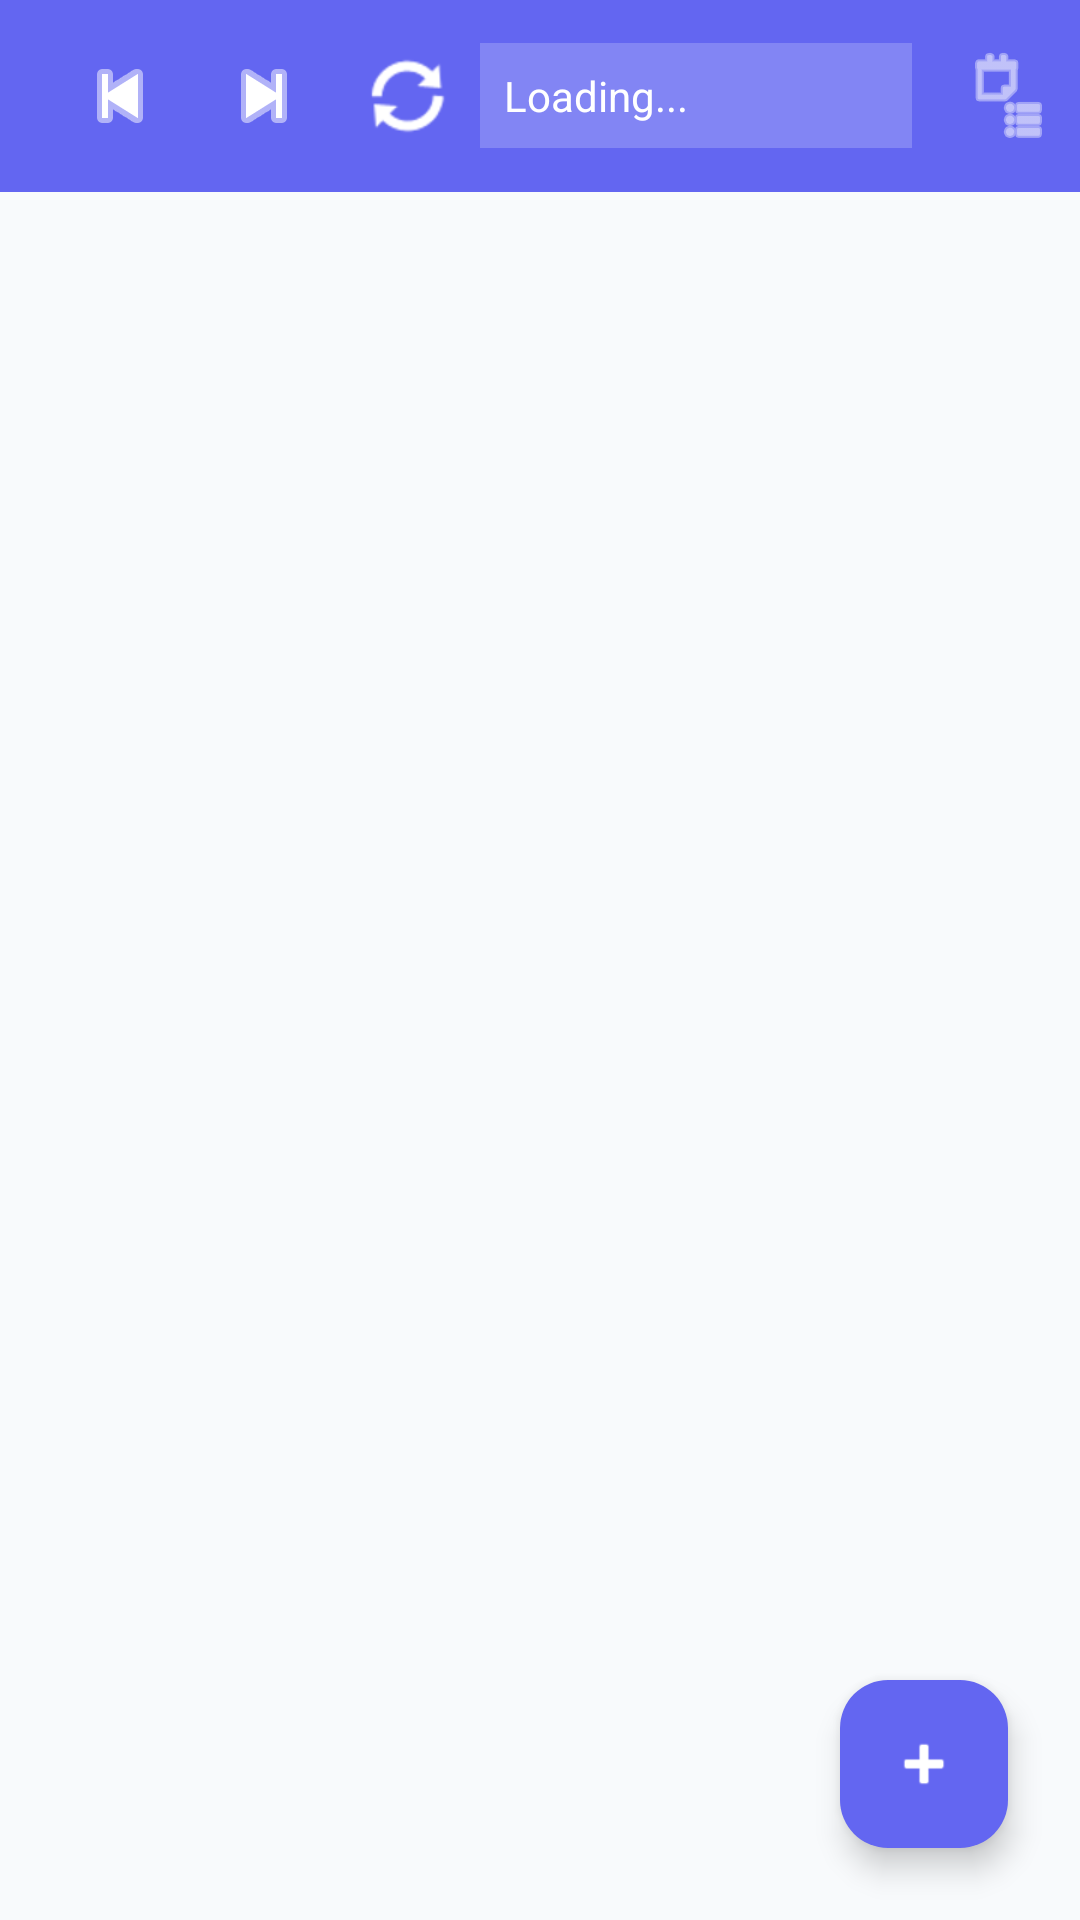

Named icons in this screenshot (1080x1920) and their bounding boxes, (x1, y1, x2, y2):
Back: (97, 69, 143, 123)
Forward: (241, 69, 287, 123)
Refresh: (371, 60, 444, 132)
